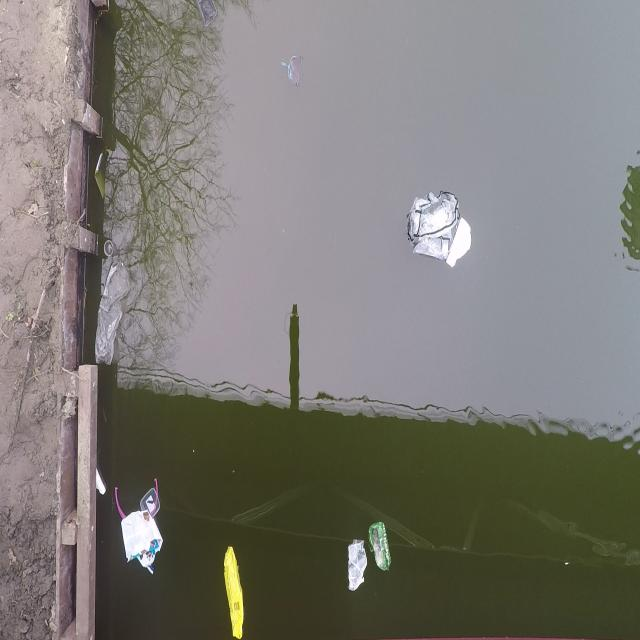Sac plastique: (404, 185, 458, 266), (221, 539, 246, 640), (342, 536, 372, 596), (370, 518, 397, 582)
